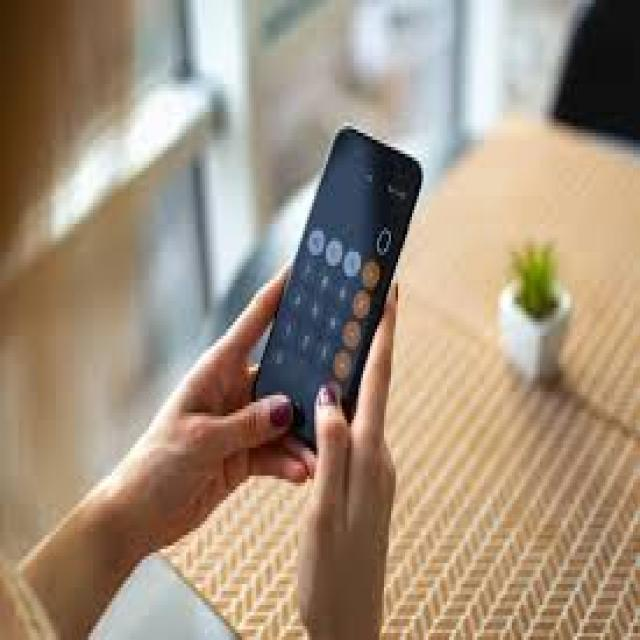Calculator: (252, 120, 425, 452)
